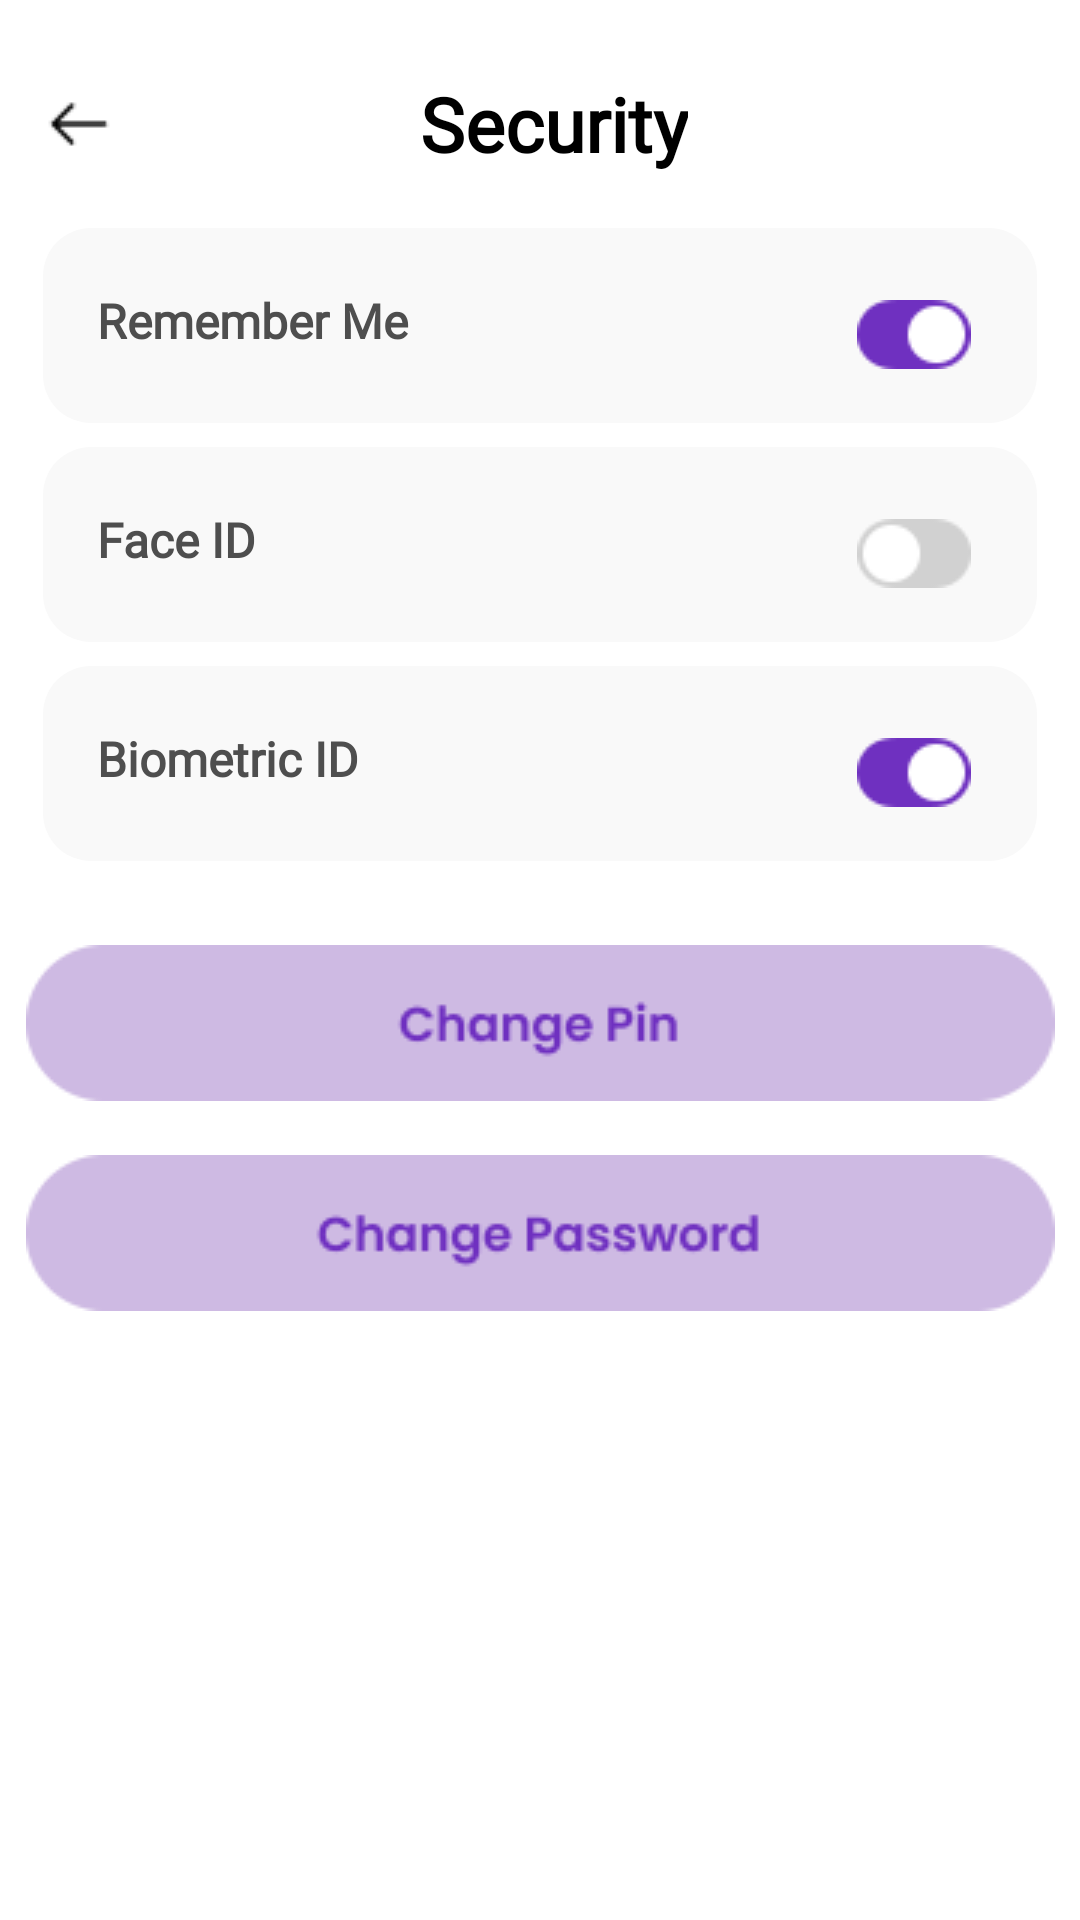

Screen size 1080w x 1920h. Icon name, then its box in pixels as (x1, y1, x2, y2):
back arrow: (50, 102, 108, 146)
toggle off: (857, 519, 971, 588)
toggle on: (857, 300, 971, 369), (857, 738, 971, 807)
